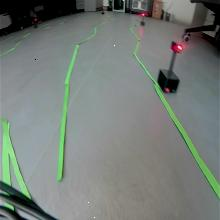red: (170, 40, 183, 54)
